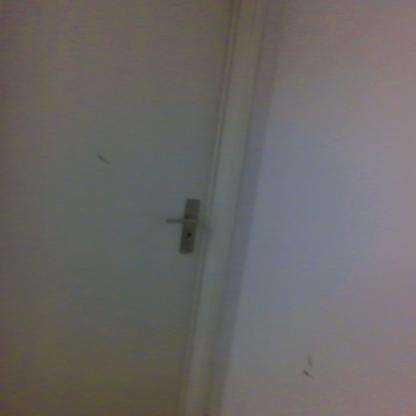door: (0, 0, 209, 415)
lever: (162, 214, 204, 228)
